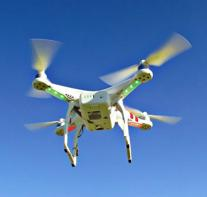UAV: (31, 60, 158, 166)
